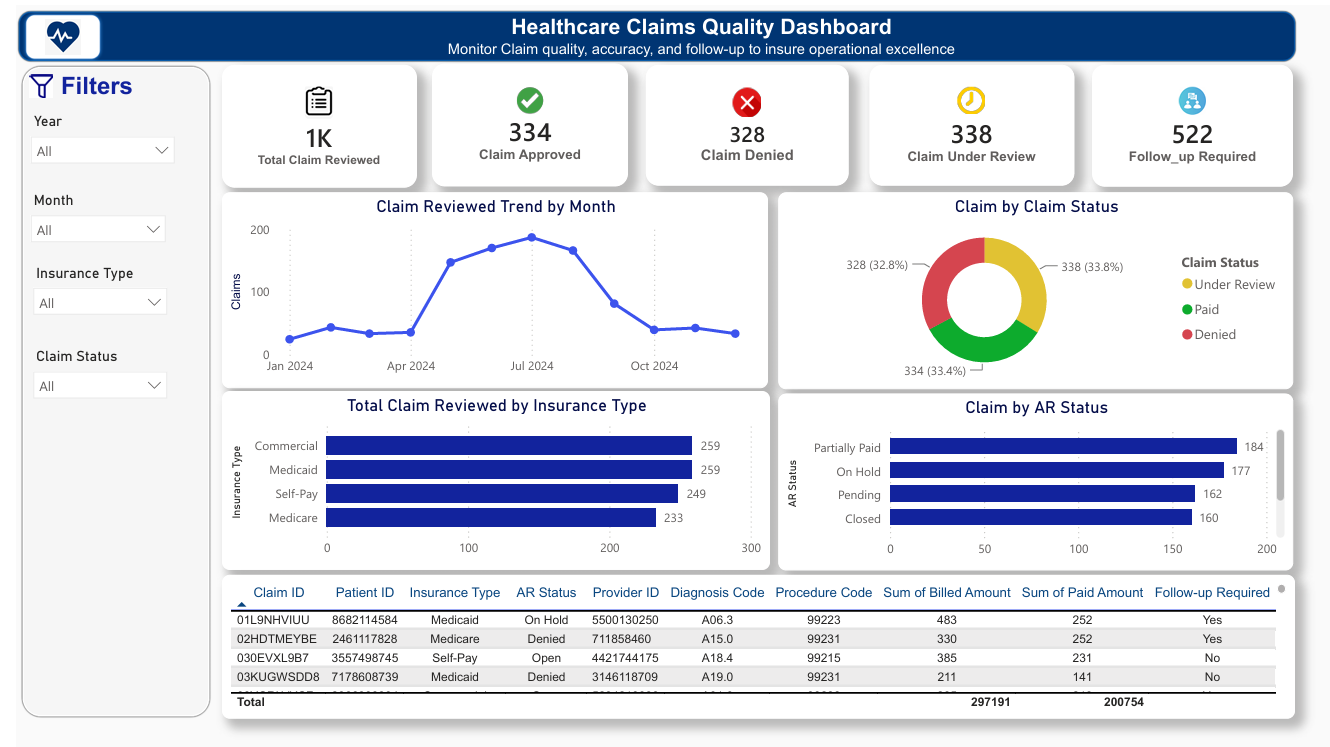

The page's visual inventory and layout, read from the dashboard file:
{"tool":"powerbi","page":{"name":"Page 1","canvas":[1280,720],"ordinal":0},"visuals":[{"type":"shape","box":[0,3.6,1280,53.1],"z":0},{"type":"textbox","box":[218.4,3.6,931.4,53.1],"z":1000},{"type":"shape","box":[4.8,4.8,82,51.9],"z":2000},{"type":"image","box":[13.3,13.3,65.1,35],"z":3000},{"type":"cardVisual","fields":{"Data":["claim_data.Total Claim Reviewed"]},"box":[204.7,59.3,194.8,122.8],"z":4000},{"type":"cardVisual","fields":{"Data":["claim_data.Claim Approved"]},"box":[415,57.9,196.2,122.8],"z":5000},{"type":"cardVisual","fields":{"Data":["claim_data.Claim Denied"]},"box":[628.1,59.3,203.3,121.4],"z":6000},{"type":"cardVisual","fields":{"Data":["claim_data.Claim Under Review"]},"box":[852.6,59.3,204.7,121.4],"z":7000},{"type":"cardVisual","fields":{"Data":["claim_data.Follow_up Required"]},"box":[1074.9,59.1,201.5,121.9],"z":8000},{"type":"lineChart","title":"Claim Reviewed Trend by Month","fields":{"Y":["claim_data.Total Claim Reviewed"],"Category":["claim_data.Date of Service.Variation.Date Hierarchy.Year","claim_data.Date of Service.Variation.Date Hierarchy.Month"]},"box":[204.7,186.3,546.3,196.2],"z":9000},{"type":"donutChart","title":"Claim by Claim Status","fields":{"Y":["claim_data.Total Claim Reviewed"],"Category":["claim_data.Claim Status"]},"box":[761.3,185.8,515.2,196.6],"z":10000},{"type":"clusteredBarChart","fields":{"Y":["claim_data.Total Claim Reviewed"],"Category":["claim_data.Insurance Type"]},"box":[204.7,385.4,547.7,179.3],"z":11000},{"type":"clusteredBarChart","title":"Claim by AR Status","fields":{"Category":["claim_data.AR Status"],"Y":["claim_data.Total Claim Reviewed"]},"box":[761.3,387.3,515.2,177.3],"z":12000},{"type":"shape","box":[4.2,59.3,190.6,653.6],"z":13000},{"type":"tableEx","fields":{"Values":["claim_data.Claim ID","claim_data.Patient ID","claim_data.Insurance Type","claim_data.AR Status","claim_data.Provider ID","claim_data.Diagnosis Code","claim_data.Procedure Code","Sum(claim_data.Billed Amount)","Sum(claim_data.Paid Amount)","claim_data.Follow-up Required"]},"box":[204.7,568.9,1072.8,144],"z":14000},{"type":"slicer","fields":{"Values":["claim_data.Date of Service.Variation.Date Hierarchy.Year"]},"box":[4.2,103,163.7,79],"z":15000},{"type":"slicer","fields":{"Values":["claim_data.Date of Service.Variation.Date Hierarchy.Month"]},"box":[4.2,180.7,155.3,83.3],"z":16000},{"type":"slicer","fields":{"Values":["claim_data.Insurance Type"]},"box":[5.6,254.1,153.9,90.3],"z":17000},{"type":"slicer","fields":{"Values":["claim_data.Claim Status"]},"box":[5.6,337.4,153.9,90.3],"z":18000},{"type":"image","box":[9.9,69.2,29.6,24],"z":19000},{"type":"textbox","box":[4.2,60.7,152.4,40.9],"z":20000}]}

Visuals, with their boxes in screenshot pixels (x1, y1, x2, y2), scaled from the page's 1280x720 canvas onto the 1330x747 screenshot:
shape: (x1=0, y1=4, x2=1329, y2=59)
textbox: (x1=227, y1=4, x2=1195, y2=59)
shape: (x1=5, y1=5, x2=90, y2=59)
image: (x1=14, y1=14, x2=81, y2=50)
cardVisual - claim_data.Total Claim Reviewed: (x1=213, y1=62, x2=415, y2=189)
cardVisual - claim_data.Claim Approved: (x1=431, y1=60, x2=635, y2=187)
cardVisual - claim_data.Claim Denied: (x1=653, y1=62, x2=864, y2=187)
cardVisual - claim_data.Claim Under Review: (x1=886, y1=62, x2=1099, y2=187)
cardVisual - claim_data.Follow_up Required: (x1=1117, y1=61, x2=1326, y2=188)
"Claim Reviewed Trend by Month" lineChart: (x1=213, y1=193, x2=780, y2=397)
"Claim by Claim Status" donutChart: (x1=791, y1=193, x2=1326, y2=397)
clusteredBarChart - claim_data.Total Claim Reviewed x claim_data.Insurance Type: (x1=213, y1=400, x2=782, y2=586)
"Claim by AR Status" clusteredBarChart: (x1=791, y1=402, x2=1326, y2=586)
shape: (x1=4, y1=62, x2=202, y2=740)
tableEx - claim_data.Claim ID x claim_data.Patient ID: (x1=213, y1=590, x2=1327, y2=740)
slicer - claim_data.Date of Service.Variation.Date Hierarchy.Year: (x1=4, y1=107, x2=174, y2=189)
slicer - claim_data.Date of Service.Variation.Date Hierarchy.Month: (x1=4, y1=187, x2=166, y2=274)
slicer - claim_data.Insurance Type: (x1=6, y1=264, x2=166, y2=357)
slicer - claim_data.Claim Status: (x1=6, y1=350, x2=166, y2=444)
image: (x1=10, y1=72, x2=41, y2=97)
textbox: (x1=4, y1=63, x2=163, y2=105)
